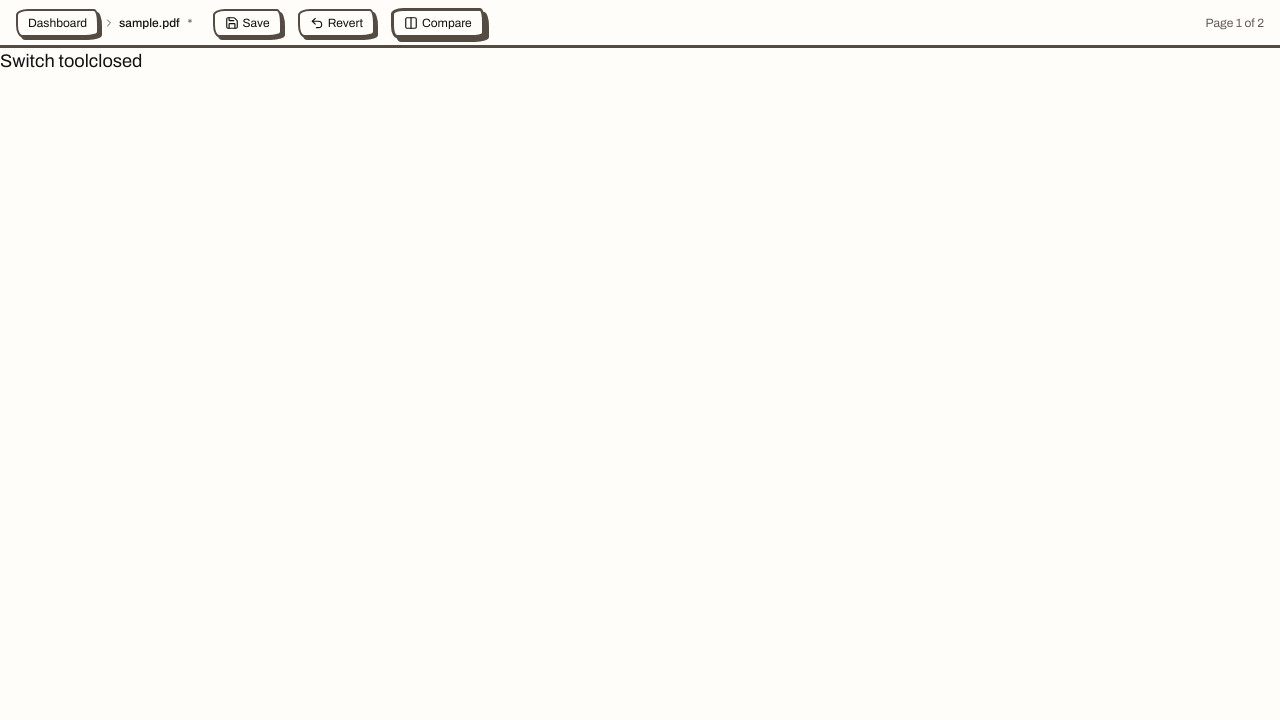
Scenario: leaving the editor › ED-03: Cancel stays in the editor and writes nothing
Step 1. Click the button "Dashboard" → (58, 22), box [16, 8, 99, 36]
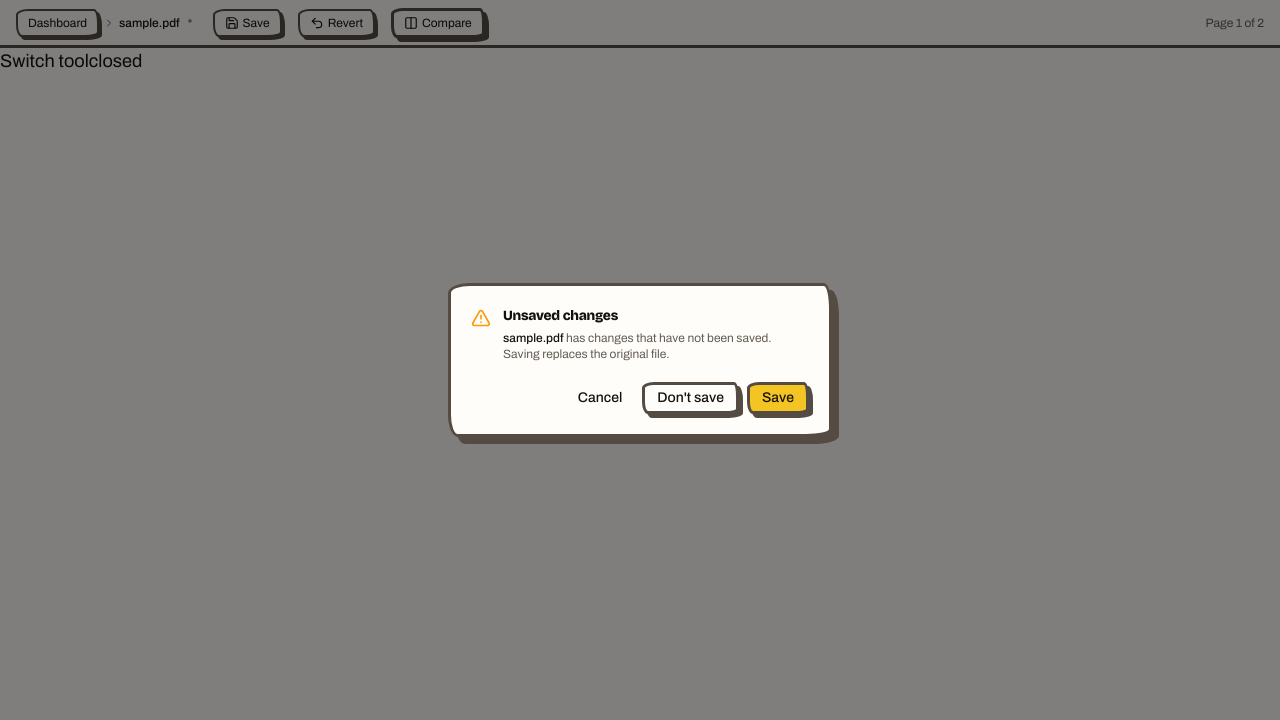
Step 2. Click the button "Cancel" → (600, 398), box [566, 382, 634, 414]
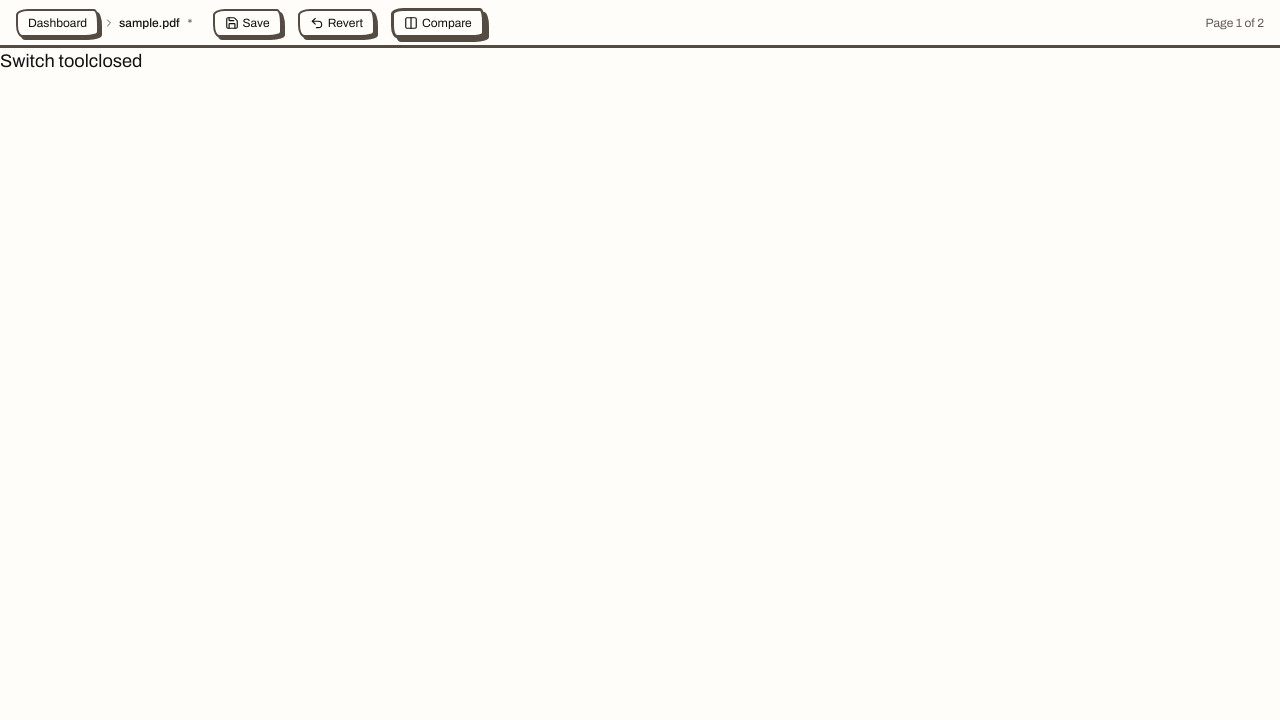
expect the button "Dashboard" is shown: met, box [16, 8, 99, 36]
expect the dialog is gone: met
